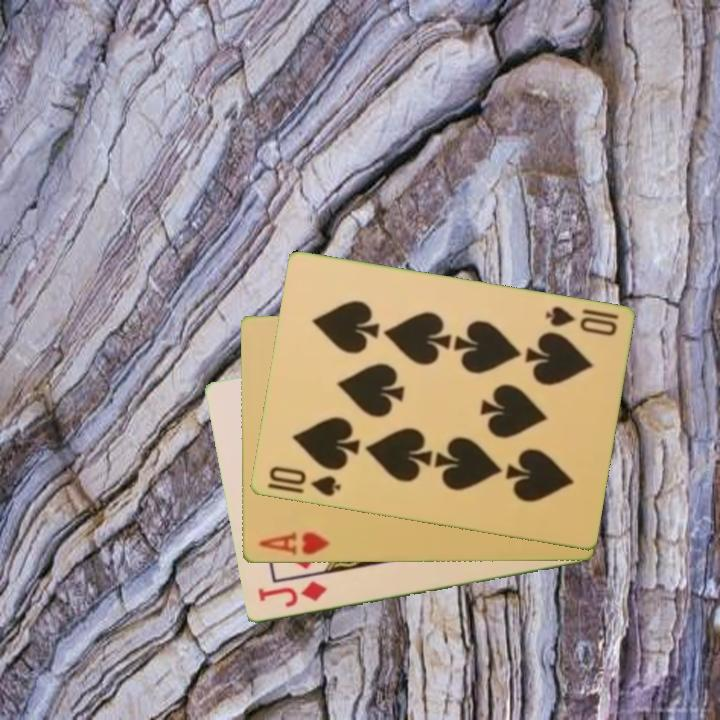10s: (265, 463, 344, 500), (541, 303, 621, 339)
Ah: (254, 529, 332, 559)
Jd: (254, 577, 330, 611)
